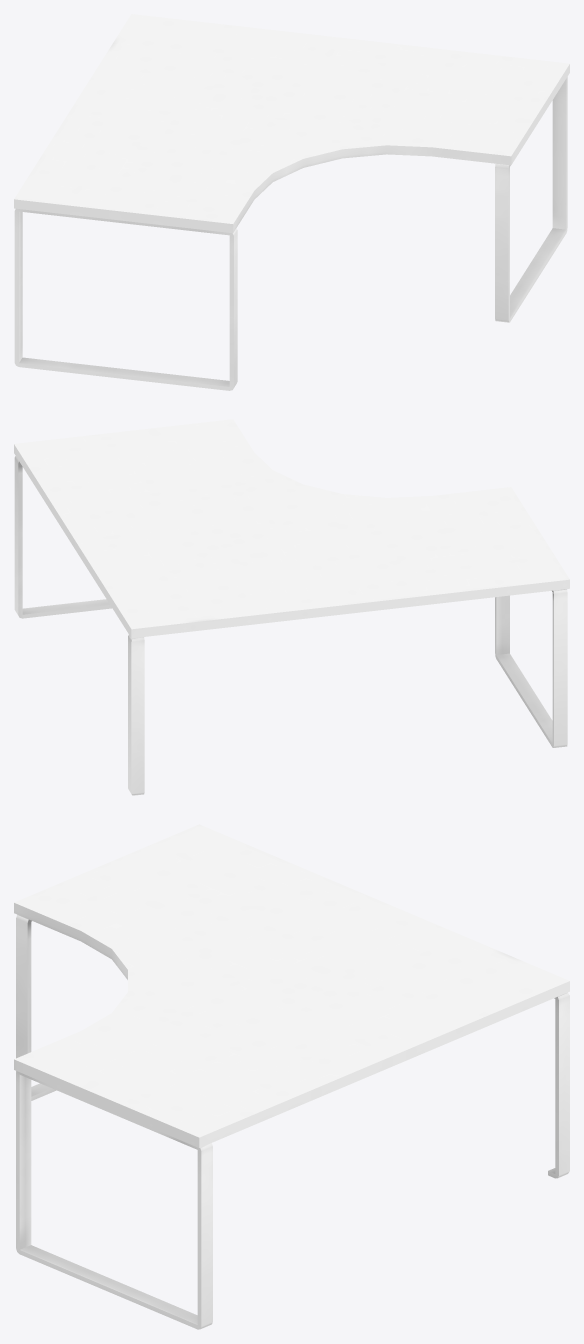
The model's file is CornerDesk.glb.
The picture shows the model from 3 angles, top to bottom: view 1: azimuth 30°, elevation 25°; view 2: azimuth 150°, elevation 25°; view 3: azimuth 270°, elevation 25°; orthographic projection. The views are drawn at different scales.
Parts seen in each view (by area): view 1: CornerDesk, CornerDesk.001; view 2: CornerDesk, CornerDesk.001; view 3: CornerDesk, CornerDesk.001.
Part boxes in pixels (x1,y1,x2,y2): CornerDesk: (14, 14, 569, 233); CornerDesk.001: (14, 77, 567, 390); CornerDesk: (14, 419, 569, 638); CornerDesk.001: (14, 456, 567, 795); CornerDesk: (14, 824, 569, 1147); CornerDesk.001: (16, 914, 569, 1329).
Bounding box in the file's own units: 2.58 × 0.7469 × 1.94.
Materials: 1 (1 with a texture image).
